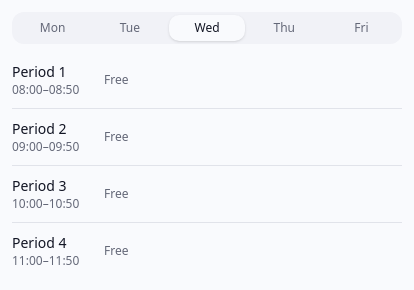
it: TimetableGrid › shows one day at a time where the week does not fit
Step 1. Click the radio button labelled "Tue" → (130, 28), box [92,15,167,41]
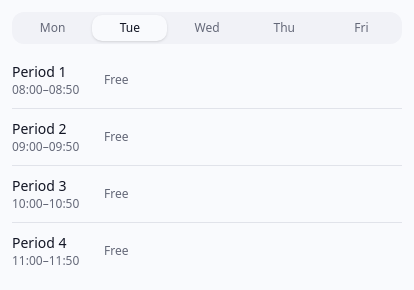
Check: the text "Physics" is not shown
Check: the text "Free" is shown 4 times, box [104,71,128,88]; [104,128,128,145]; [104,185,128,202]; [104,242,128,259]
Step 2. Click the radio button labelled "Mon" → (53, 28), box [15,15,90,41]
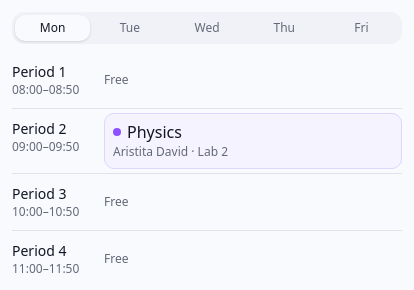
Check: the text "Physics" is shown, box [127,120,182,144]
